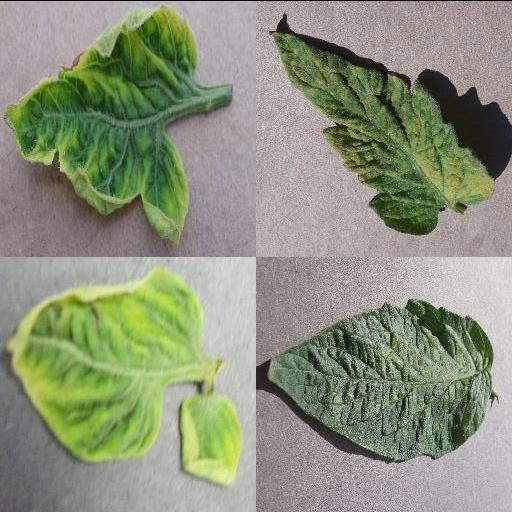Leaf Mold: (269, 29, 497, 236)
Spider Mites: (266, 296, 492, 460)
Yellow Leaf Curl Virus: (4, 4, 200, 248), (9, 263, 207, 463), (181, 393, 243, 486)
